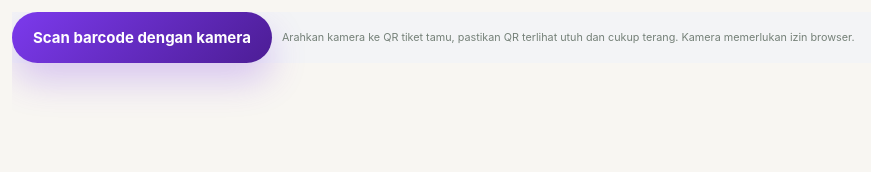
Test: shows a clear camera-permission error
The image size is (871, 172).
Click the button "Scan barcode dengan kamera": x=142, y=38 [12,12,272,63]
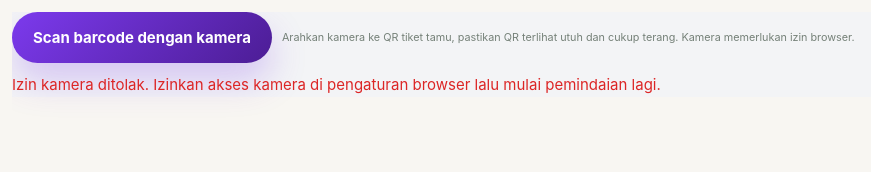
Now the message shows "Izin kamera ditolak", box [12,75,661,94]
